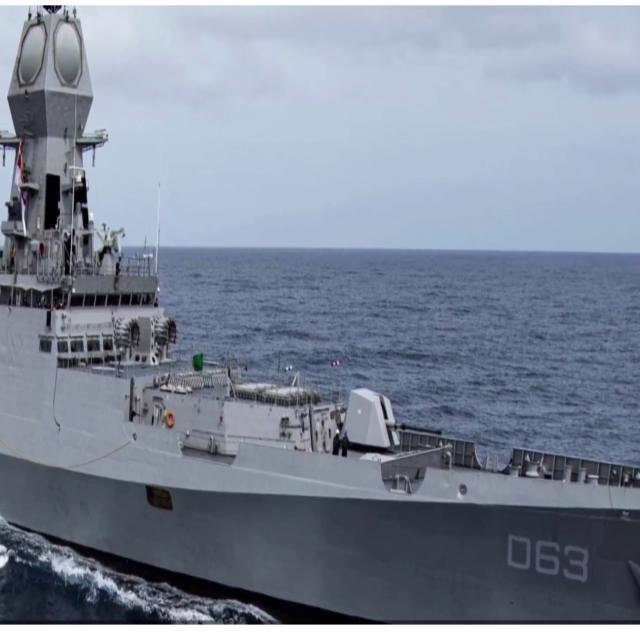OCR: (502, 526, 592, 586)
